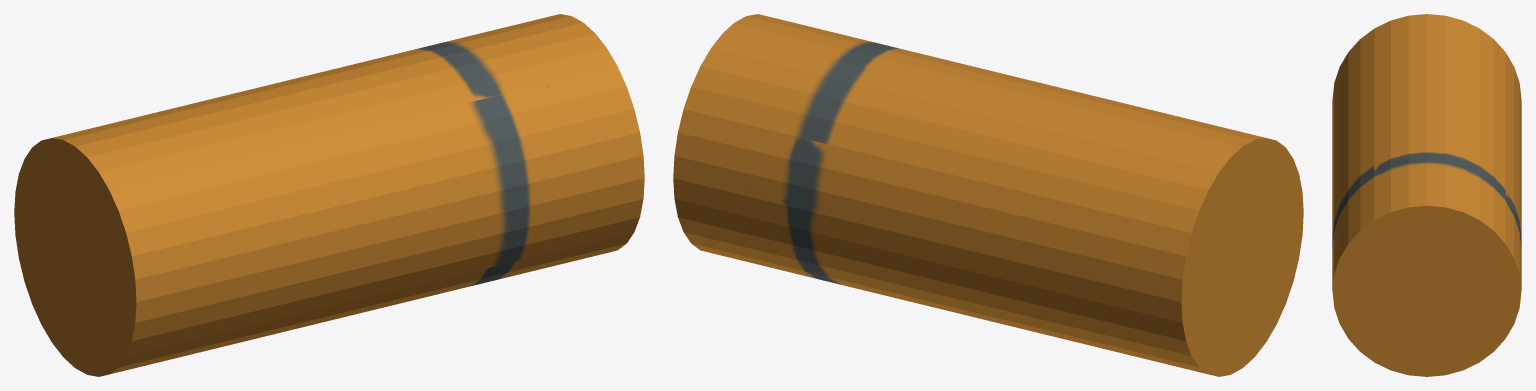
The model's file is pen_case.glb.
3 renders of one model, left to right at view 1: azimuth 30°, elevation 25°; view 2: azimuth 150°, elevation 25°; view 3: azimuth 270°, elevation 25°, orthographic. The views are drawn at different scales.
Parts seen in each view (by area): view 1: Cylinder; view 2: Cylinder; view 3: Cylinder.
Part boxes in pixels (<box>): Cylinder: <box>14,14,644,376</box>; Cylinder: <box>673,14,1303,376</box>; Cylinder: <box>1332,14,1521,376</box>.
Size of the model in its own units: 1.2 by 0.5 by 0.5.
1 material, 1 textured.
